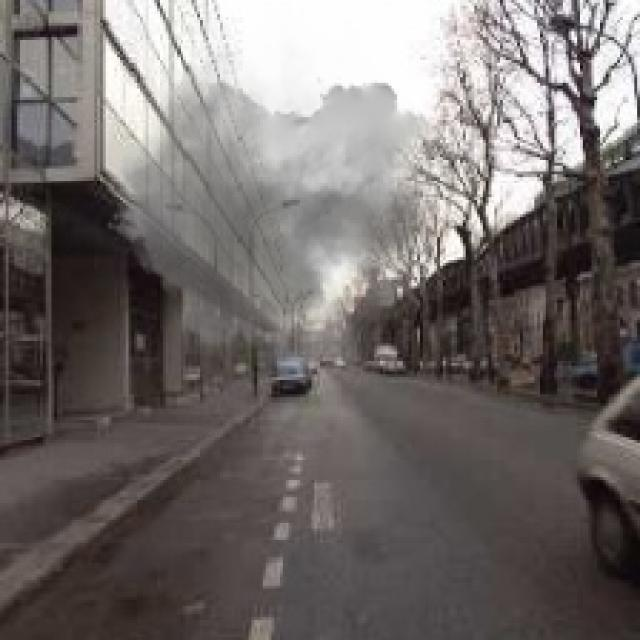Smoke: (94, 2, 452, 388)
